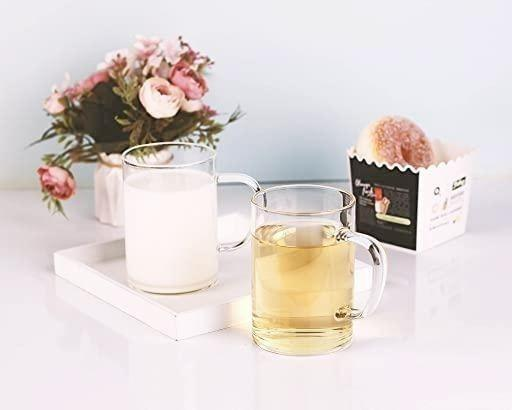glass-mug: (245, 182, 392, 359), (116, 136, 261, 300)
